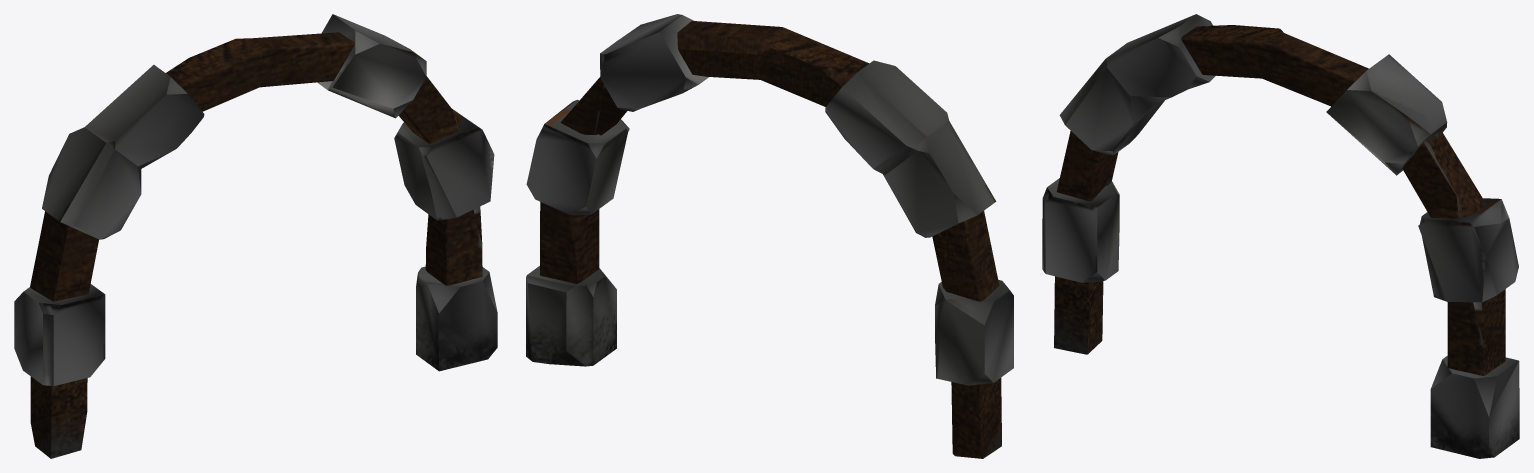
Rendered from portal.glb.
The picture shows the model from 3 angles, left to right: view 1: azimuth 30°, elevation 25°; view 2: azimuth 150°, elevation 25°; view 3: azimuth 330°, elevation 25°; orthographic projection. The views are drawn at different scales.
Visible parts, largest first — view 1: cliff; view 2: cliff; view 3: cliff.
Part boxes in pixels (left/top/right/bottom): cliff: left=14, top=14, right=497, bottom=458; cliff: left=526, top=14, right=1013, bottom=458; cliff: left=1042, top=14, right=1519, bottom=458.
Bounding box in the file's own units: 7.29 × 5.56 × 1.01.
Materials: 1 (1 with a texture image).
